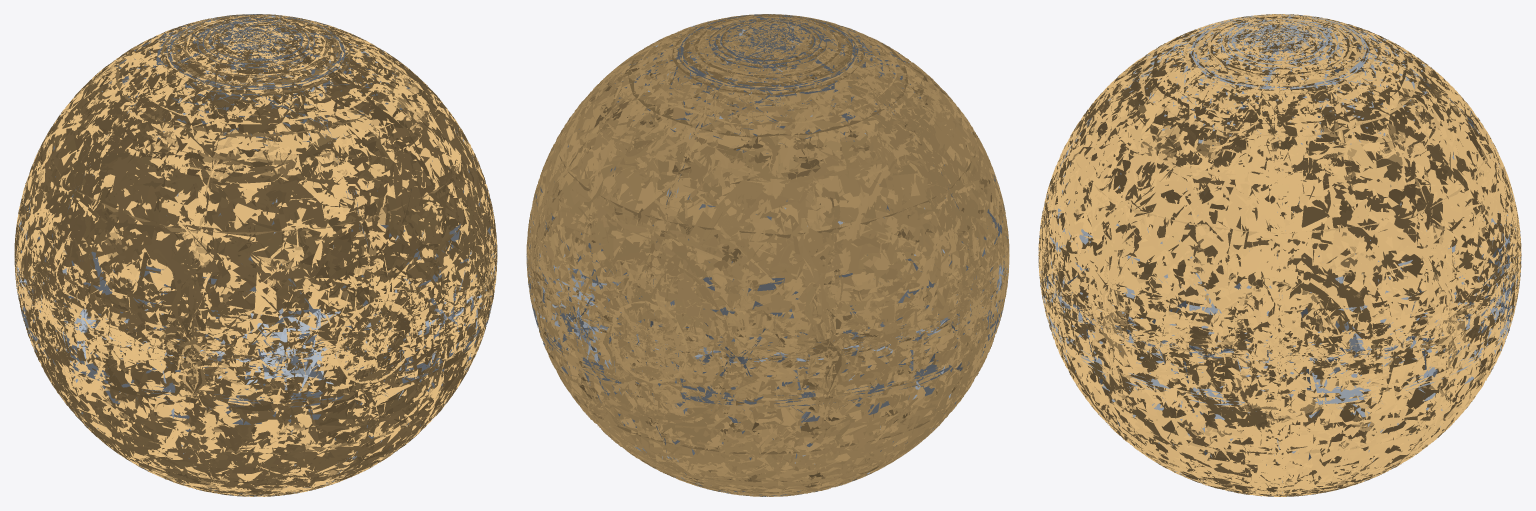
Rendered from caissons.glb.
3 views of the same model, side by side, from view 1: azimuth 30°, elevation 25°; view 2: azimuth 150°, elevation 25°; view 3: azimuth 270°, elevation 25° (orthographic).
Parts seen in each view (by area): view 1: PBE-4902A, PBA-6205, Caissons, ABH-4901B, PBE-4902B, ABH-6204, ABH-4901A; view 2: PBE-4902A, PBA-6205, Caissons, ABH-4901B, PBE-4902B, ABH-4901A, ABH-6204; view 3: PBE-4902A, PBA-6205, Caissons, ABH-4901B, ABH-4901A, PBE-4902B, ABH-6204.
Boxes of the visible parts, box(x1,y1,x2,y2) form: PBE-4902A: box(14, 14, 497, 496); PBA-6205: box(14, 14, 497, 496); Caissons: box(15, 14, 497, 496); ABH-4901B: box(17, 16, 496, 494); PBE-4902B: box(15, 16, 496, 443); ABH-6204: box(48, 14, 463, 496); ABH-4901A: box(15, 16, 496, 495); PBE-4902A: box(526, 14, 1009, 496); PBA-6205: box(526, 14, 1009, 496); Caissons: box(526, 14, 1009, 496); ABH-4901B: box(527, 15, 1006, 494); PBE-4902B: box(527, 14, 1007, 451); ABH-4901A: box(527, 16, 1006, 408); ABH-6204: box(559, 14, 976, 492); PBE-4902A: box(1038, 14, 1521, 496); PBA-6205: box(1038, 14, 1521, 496); Caissons: box(1038, 14, 1521, 496); ABH-4901B: box(1040, 15, 1519, 494); ABH-4901A: box(1039, 16, 1518, 492); PBE-4902B: box(1039, 14, 1520, 444); ABH-6204: box(1072, 14, 1487, 492).
Size of the model in its own units: 2 by 2 by 2.
